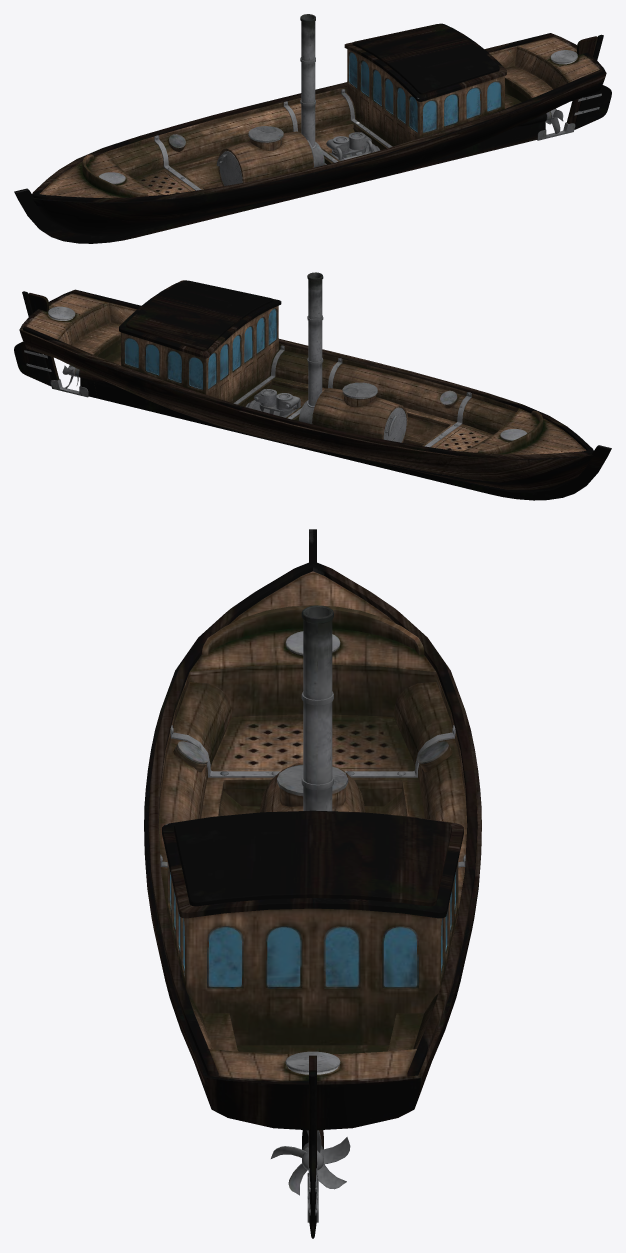
The picture shows the model from 3 angles, top to bottom: view 1: azimuth 30°, elevation 25°; view 2: azimuth 150°, elevation 25°; view 3: azimuth 270°, elevation 25°; orthographic projection. The views are drawn at different scales.
Visible parts, largest first — view 1: GO_Node_05, GO_Node_03, GO_Node_02, GO_Node_01, GO_Node_07, GO_Node_04, GO_Node_00, GO_Node_06; view 2: GO_Node_05, GO_Node_03, GO_Node_02, GO_Node_01, GO_Node_07, GO_Node_04, GO_Node_00, GO_Node_06; view 3: GO_Node_05, GO_Node_01, GO_Node_07, GO_Node_02, GO_Node_03, GO_Node_06, GO_Node_00, GO_Node_04.
Part boxes in pixels (x1,y1,x2,y2): GO_Node_05: [338, 23, 512, 178]; GO_Node_03: [200, 14, 360, 212]; GO_Node_02: [131, 119, 281, 229]; GO_Node_01: [66, 139, 204, 243]; GO_Node_07: [515, 33, 611, 141]; GO_Node_04: [278, 84, 418, 192]; GO_Node_00: [14, 166, 113, 243]; GO_Node_06: [478, 41, 573, 153]; GO_Node_05: [113, 280, 286, 434]; GO_Node_03: [266, 272, 425, 468]; GO_Node_02: [344, 375, 494, 486]; GO_Node_01: [421, 395, 559, 500]; GO_Node_07: [14, 289, 110, 398]; GO_Node_04: [207, 341, 348, 449]; GO_Node_00: [512, 422, 611, 500]; GO_Node_06: [52, 298, 147, 410]; GO_Node_05: [151, 810, 474, 1048]; GO_Node_01: [164, 605, 461, 750]; GO_Node_07: [192, 1044, 433, 1238]; GO_Node_02: [147, 697, 478, 818]; GO_Node_03: [144, 605, 481, 859]; GO_Node_06: [171, 989, 454, 1138]; GO_Node_00: [215, 529, 410, 623]; GO_Node_04: [144, 845, 481, 916].
Bounding box in the file's own units: 5243 × 1487 × 1285.
